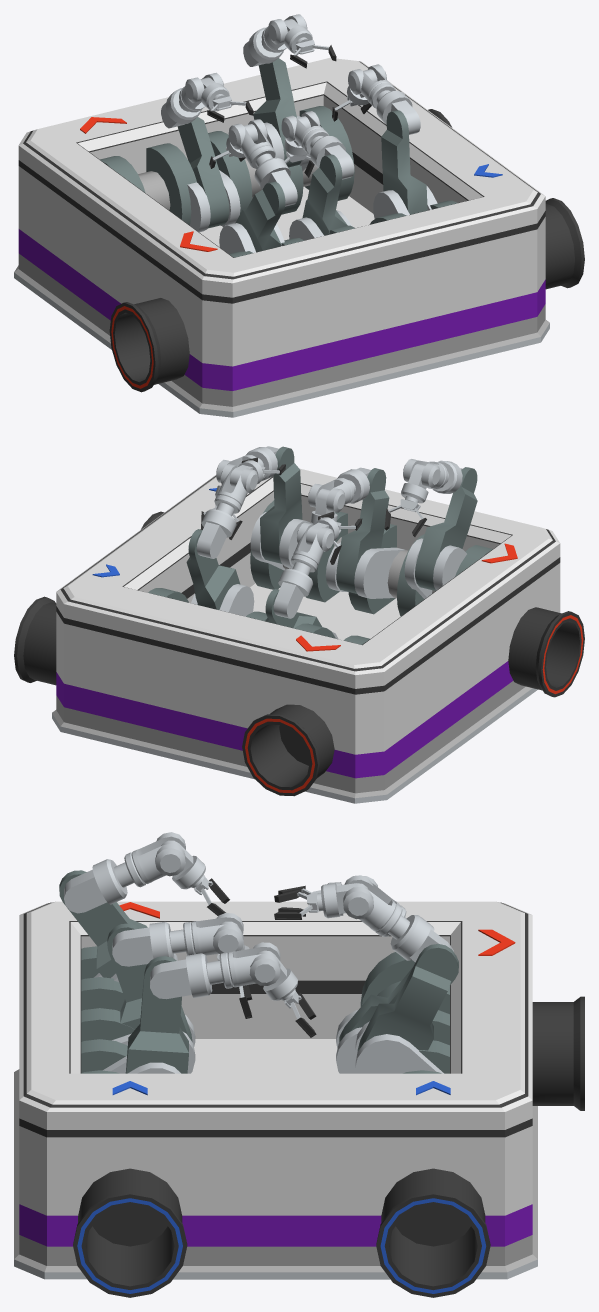
Rendered from Mechanical Assembler.fbx.
3 views of the same model, one above another, from view 1: azimuth 30°, elevation 25°; view 2: azimuth 150°, elevation 25°; view 3: azimuth 270°, elevation 25° (orthographic). The views are drawn at different scales.
Parts seen in each view (by area): view 1: Mechanical Assembler; view 2: Mechanical Assembler; view 3: Mechanical Assembler.
Part boxes in pixels (x1,y1,x2,y2): Mechanical Assembler: [14, 14, 584, 417]; Mechanical Assembler: [14, 446, 584, 803]; Mechanical Assembler: [14, 832, 584, 1297].
Size of the model in its own units: 4.08 by 2.28 by 3.77.
